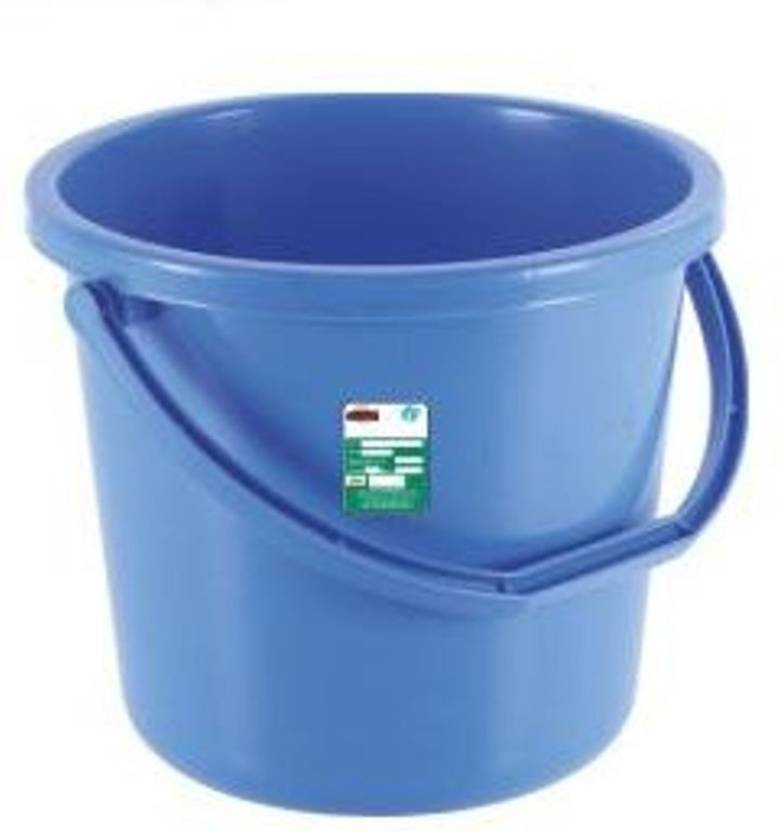Rec_Plastic: (11, 74, 739, 812)
